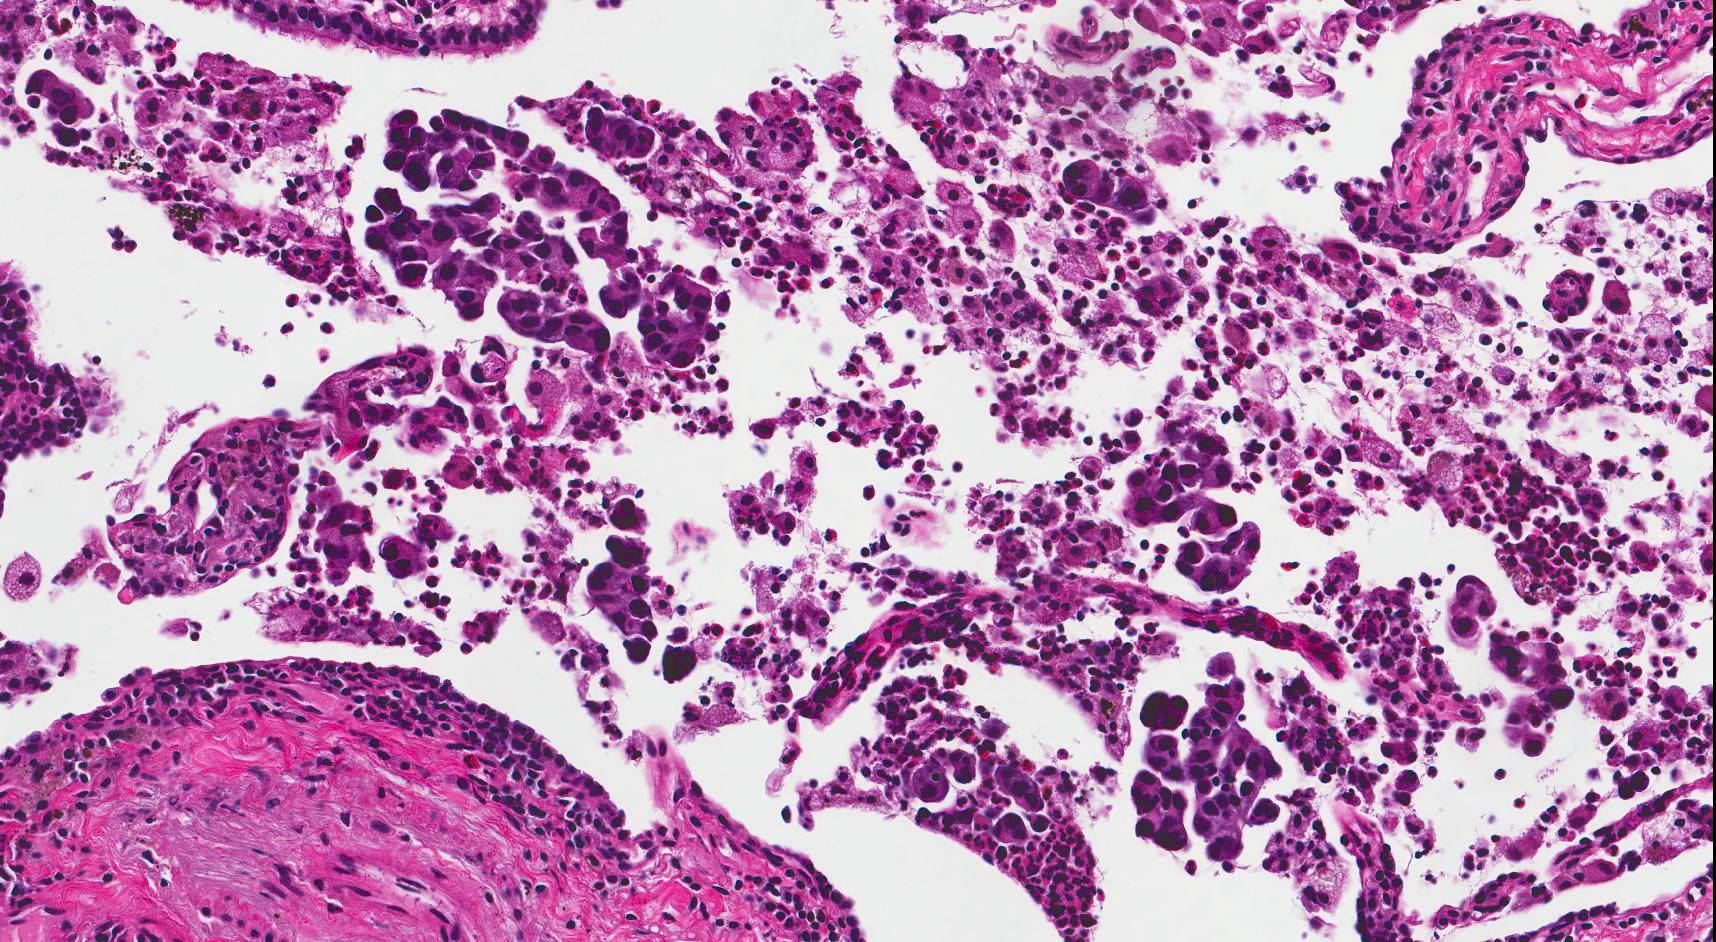stas: (362, 105, 720, 372), (1128, 681, 1283, 866), (1445, 574, 1576, 712), (1123, 431, 1240, 534), (580, 535, 661, 668), (1058, 159, 1161, 221), (1172, 523, 1263, 592), (580, 104, 662, 163), (313, 506, 375, 584), (27, 70, 95, 124), (990, 762, 1050, 814), (380, 535, 427, 582), (990, 812, 1029, 844)
